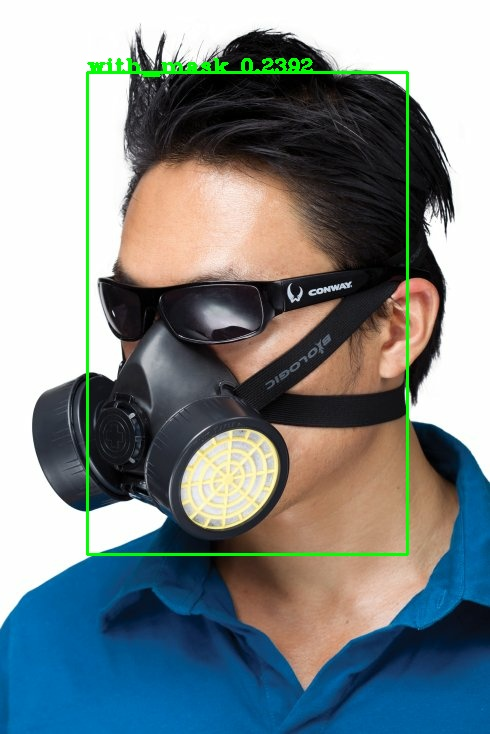with_mask: (38, 134, 441, 573)
